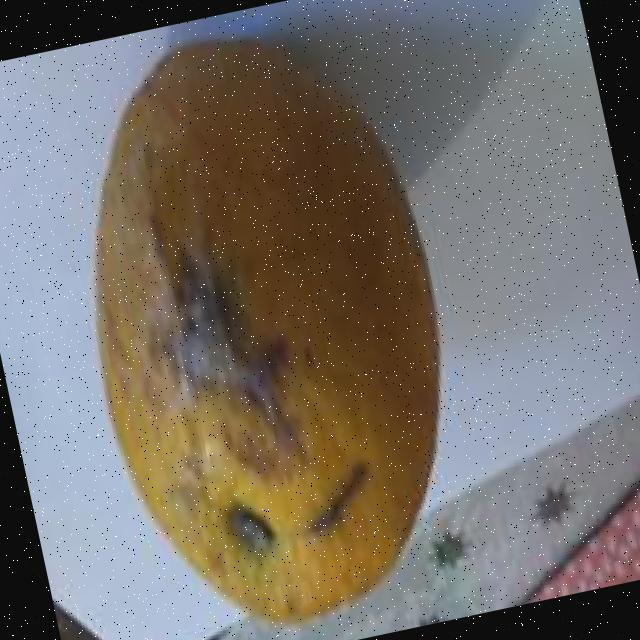overripe: (29, 2, 508, 640)
